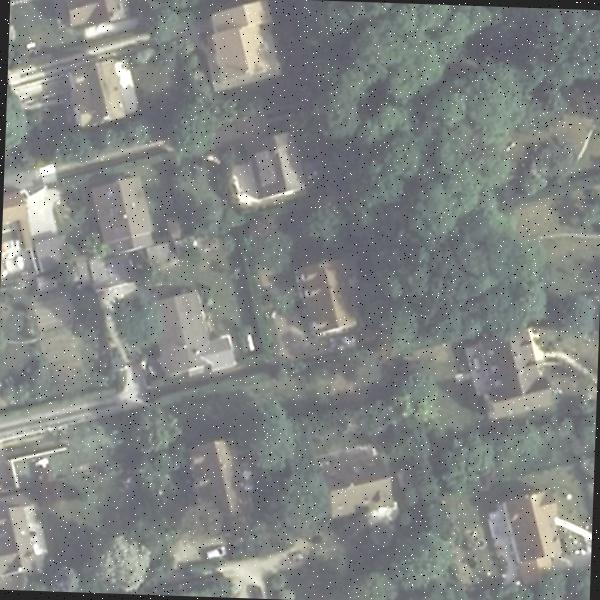Buildings: (163, 302, 240, 377), (211, 2, 276, 80), (484, 330, 544, 412), (296, 264, 360, 331), (68, 64, 138, 125), (95, 186, 153, 248), (509, 499, 559, 568), (248, 134, 301, 199), (330, 454, 394, 507), (0, 194, 42, 272), (0, 496, 34, 587), (60, 0, 130, 35), (206, 451, 239, 507)
